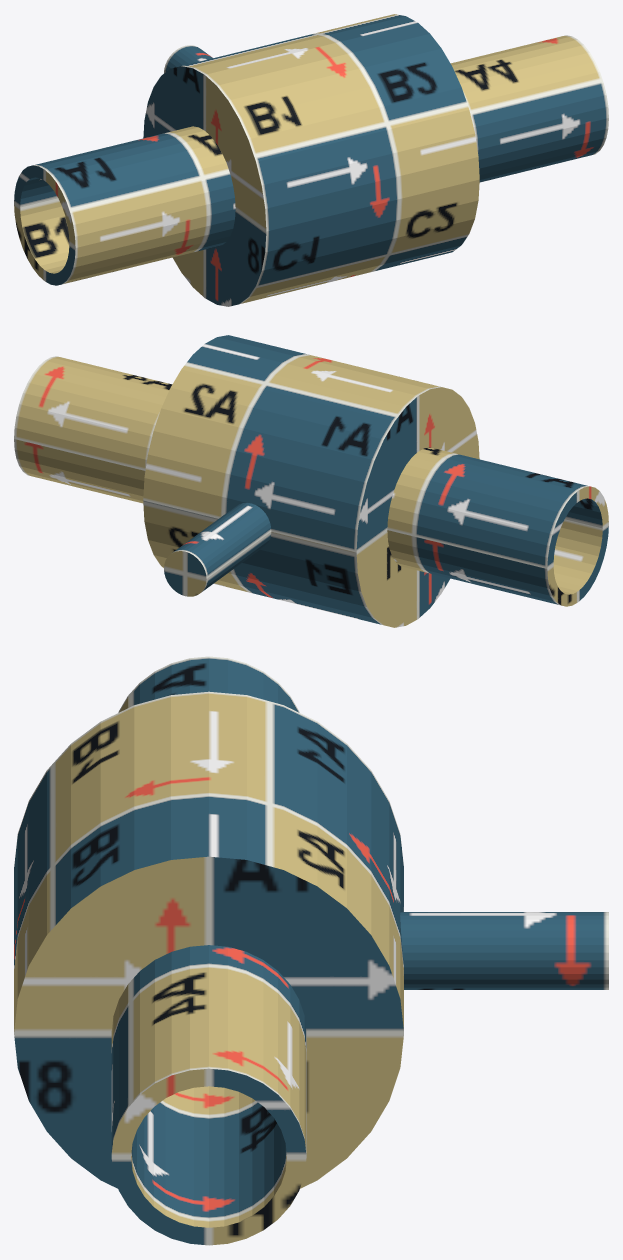
Rendered from PIPE_ValveBody.fbx.
3 views of the same model, one above another, from view 1: azimuth 30°, elevation 25°; view 2: azimuth 150°, elevation 25°; view 3: azimuth 270°, elevation 25° (orthographic). The views are drawn at different scales.
Visible parts, largest first — view 1: PIPE_ValveBody; view 2: PIPE_ValveBody; view 3: PIPE_ValveBody.
Part boxes in pixels (<box>): PIPE_ValveBody: <box>14,14,608,306</box>; PIPE_ValveBody: <box>14,335,608,627</box>; PIPE_ValveBody: <box>14,656,608,1245</box>.
Bounding box in the file's own units: 100 × 40 × 61.
Materials: 1 (1 with a texture image).
